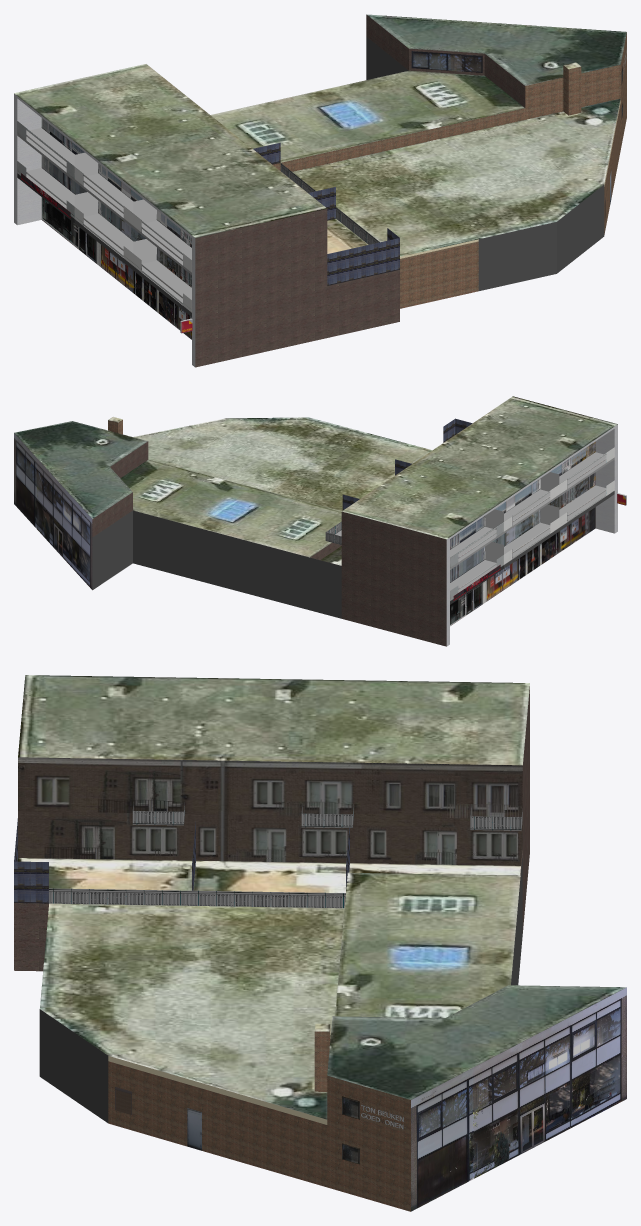
File: Sbstr-51.fbx
The picture shows the model from 3 angles, top to bottom: view 1: azimuth 30°, elevation 25°; view 2: azimuth 150°, elevation 25°; view 3: azimuth 270°, elevation 25°; orthographic projection. The views are drawn at different scales.
Visible parts, largest first — view 1: Group1; view 2: Group1; view 3: Group1, Balkon_sa1, Balkon_sa2, Balkon_sa3.
Part boxes in pixels (x1=…): Group1: x1=14, y1=14, x2=626, y2=367; Group1: x1=14, y1=396, x2=617, y2=646; Group1: x1=14, y1=675, x2=626, y2=1211; Balkon_sa1: x1=470, y1=804, x2=522, y2=830; Balkon_sa2: x1=132, y1=802, x2=184, y2=825; Balkon_sa3: x1=301, y1=803, x2=353, y2=827.
Bounding box in the file's own units: 44.9 × 9.37 × 30.92.
